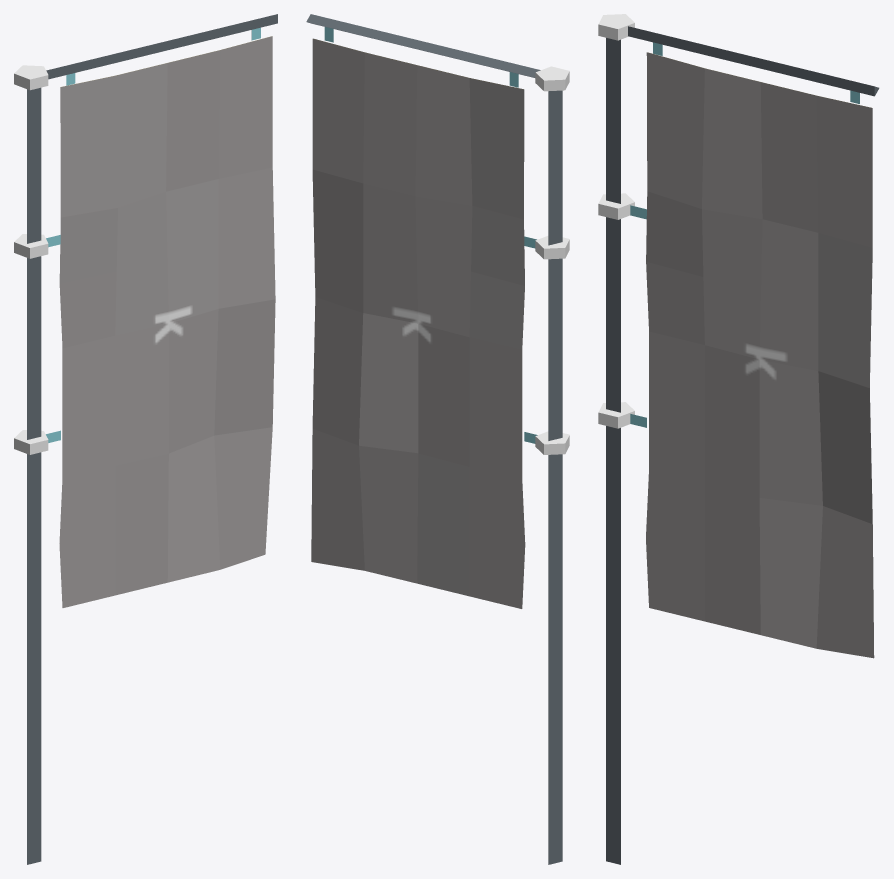
File: hatak.fbx
3 renders of one model, left to right at view 1: azimuth 30°, elevation 25°; view 2: azimuth 150°, elevation 25°; view 3: azimuth 330°, elevation 25°, orthographic. The views are drawn at different scales.
Parts seen in each view (by area): view 1: 平面, 円柱, 円柱.004, 円柱.003, 円柱.001, 円柱.002; view 2: 平面, 円柱, 円柱.004, 円柱.003, 円柱.001, 円柱.002; view 3: 平面, 円柱, 円柱.004, 円柱.003, 円柱.002, 円柱.001.
Part boxes in pixels (x1,y1,x2,y2): 平面: (59, 36, 275, 607); 円柱: (27, 87, 41, 864); 円柱.004: (46, 14, 277, 79); 円柱.003: (14, 65, 48, 90); 円柱.001: (14, 430, 48, 454); 円柱.002: (14, 234, 48, 258); 平面: (311, 38, 525, 608); 円柱: (548, 90, 562, 864); 円柱.004: (306, 14, 540, 77); 円柱.003: (535, 66, 569, 91); 円柱.001: (535, 431, 569, 454); 円柱.002: (535, 236, 569, 259); 平面: (646, 52, 874, 658); 円柱: (606, 38, 620, 864); 円柱.004: (628, 26, 879, 96); 円柱.003: (598, 14, 634, 40); 円柱.002: (598, 193, 634, 219); 円柱.001: (598, 402, 634, 428).
Size of the model in its own units: 56.98 by 166 by 6.26.
